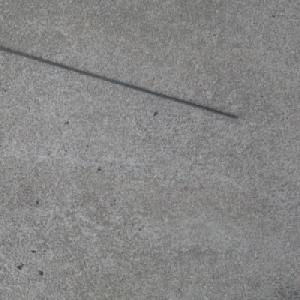LuggagePart: (0, 45, 239, 119)
